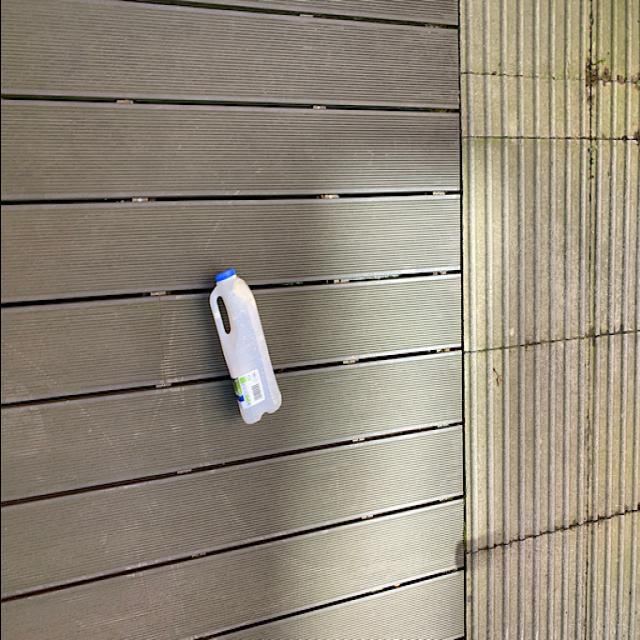litter: (205, 266, 282, 430)
